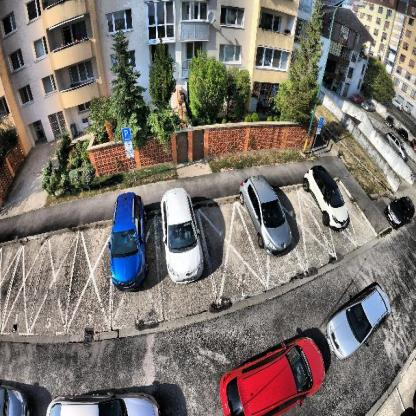free: (211, 208, 252, 299), (75, 238, 108, 321), (289, 178, 318, 265), (40, 250, 72, 327), (10, 262, 33, 334), (350, 192, 375, 249)
occupied: (160, 185, 206, 290), (105, 192, 149, 296), (249, 161, 292, 258), (308, 159, 352, 241)
